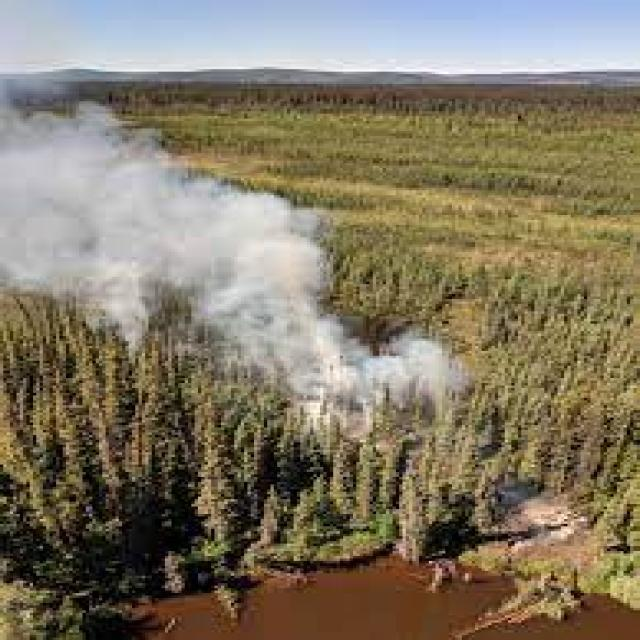Smoke: (0, 152, 352, 332), (226, 186, 473, 430), (224, 194, 453, 427), (0, 81, 197, 337), (0, 103, 209, 324), (0, 97, 161, 349), (0, 189, 325, 306), (233, 329, 462, 426), (0, 252, 176, 358)
